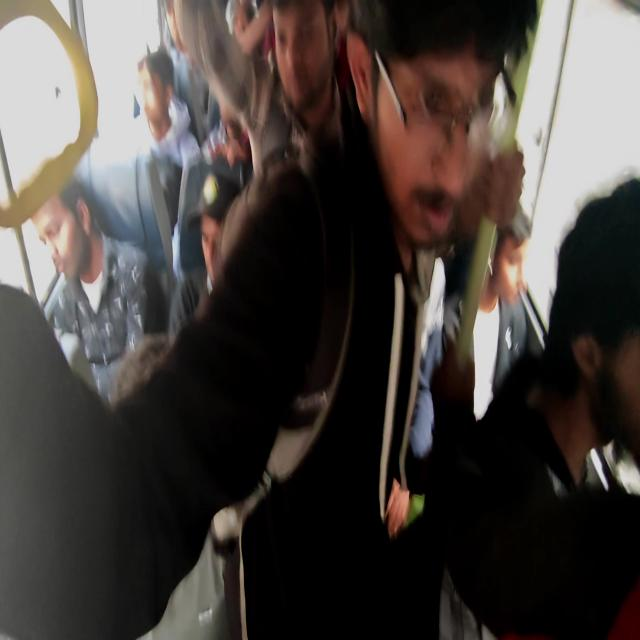person: (568, 208, 640, 537), (362, 20, 474, 231), (266, 0, 346, 110), (113, 366, 183, 490), (27, 194, 103, 308), (184, 187, 252, 305), (132, 53, 194, 146), (492, 194, 532, 332), (160, 7, 202, 61), (222, 5, 260, 45)
